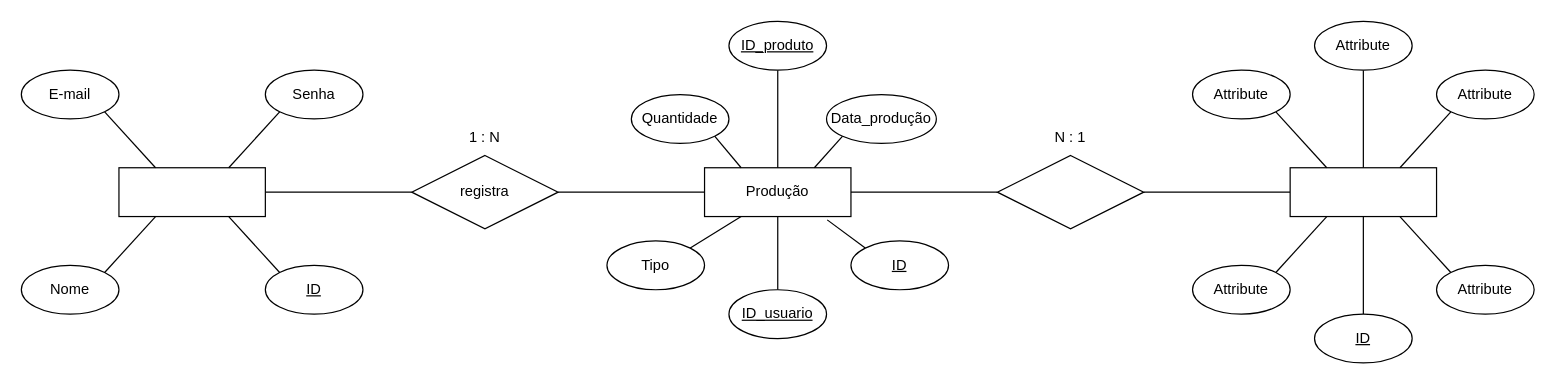
Some shapes in this 1556 by 384 pixel diagram are drawn without their labels. The shapes that lost their labels are listed below. From the top down, each one's box as (x1, y1, x2, y2) in pixels, then its label:
(118, 167, 265, 217): Usuario
(996, 154, 1144, 229): possui
(1289, 167, 1437, 217): Produto
